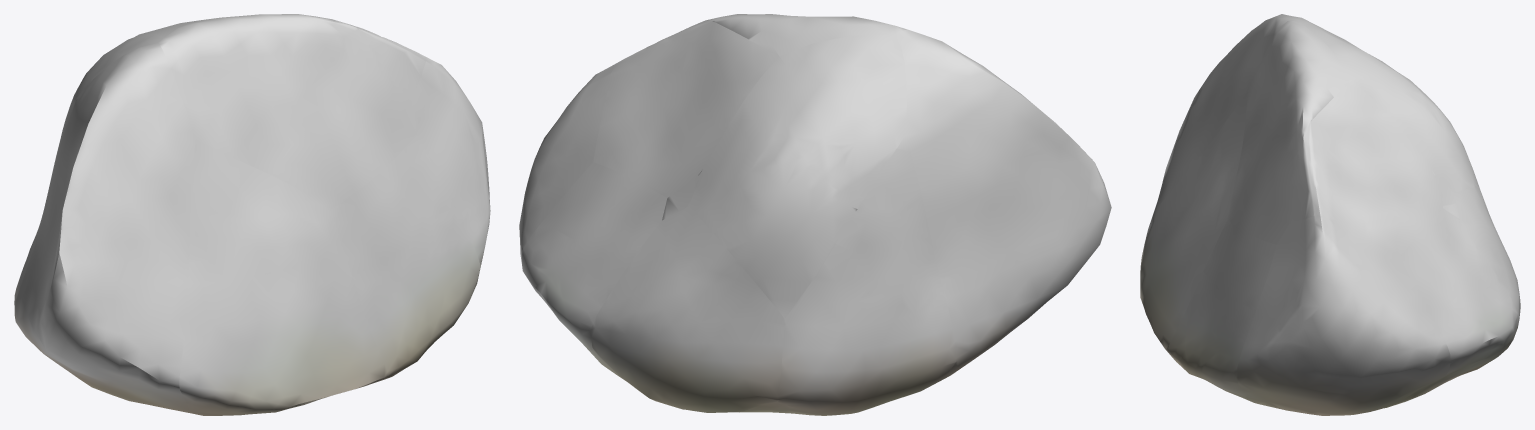
The model's file is gold_rock_v7.glb.
3 renders of one model, left to right at view 1: azimuth 30°, elevation 25°; view 2: azimuth 150°, elevation 25°; view 3: azimuth 270°, elevation 25°, orthographic. The views are drawn at different scales.
Parts seen in each view (by area): view 1: Chunk_04, Chunk_05, Chunk_09, Chunk_06, Chunk_00, Chunk_07, Chunk_08, Chunk_03; view 2: Chunk_04, Chunk_08, Chunk_03, Chunk_02, Chunk_07, Chunk_01, Chunk_00, Chunk_09, Chunk_21, Chunk_11; view 3: Chunk_00, Chunk_07, Chunk_09, Chunk_05, Chunk_01, Chunk_06, Chunk_08, Chunk_04, Chunk_02, Chunk_13, Chunk_21.
Boxes of the visible parts, x1=… form: Chunk_04: x1=15, y1=43, x2=195, y2=413; Chunk_05: x1=179, y1=139, x2=388, y2=415; Chunk_09: x1=158, y1=14, x2=416, y2=210; Chunk_06: x1=330, y1=135, x2=480, y2=379; Chunk_00: x1=411, y1=56, x2=490, y2=285; Chunk_07: x1=340, y1=21, x2=425, y2=103; Chunk_08: x1=65, y1=20, x2=199, y2=120; Chunk_03: x1=14, y1=97, x2=78, y2=320; Chunk_04: x1=895, y1=29, x2=1111, y2=391; Chunk_08: x1=689, y1=35, x2=906, y2=318; Chunk_03: x1=776, y1=136, x2=956, y2=415; Chunk_02: x1=591, y1=206, x2=784, y2=412; Chunk_07: x1=593, y1=21, x2=778, y2=197; Chunk_01: x1=522, y1=162, x2=667, y2=350; Chunk_00: x1=519, y1=65, x2=613, y2=263; Chunk_09: x1=702, y1=14, x2=906, y2=56; Chunk_21: x1=662, y1=175, x2=699, y2=220; Chunk_11: x1=736, y1=402, x2=831, y2=415; Chunk_00: x1=1237, y1=215, x2=1450, y2=415; Chunk_07: x1=1289, y1=80, x2=1443, y2=255; Chunk_09: x1=1227, y1=21, x2=1351, y2=244; Chunk_05: x1=1140, y1=91, x2=1247, y2=352; Chunk_01: x1=1401, y1=209, x2=1517, y2=377; Chunk_06: x1=1168, y1=220, x2=1276, y2=397; Chunk_08: x1=1301, y1=23, x2=1479, y2=192; Chunk_04: x1=1154, y1=14, x2=1320, y2=211; Chunk_02: x1=1455, y1=187, x2=1520, y2=348; Chunk_13: x1=1412, y1=340, x2=1511, y2=398; Chunk_21: x1=1434, y1=174, x2=1459, y2=219.
Bounding box in the file's own units: 2.51 × 1.67 × 1.93.
